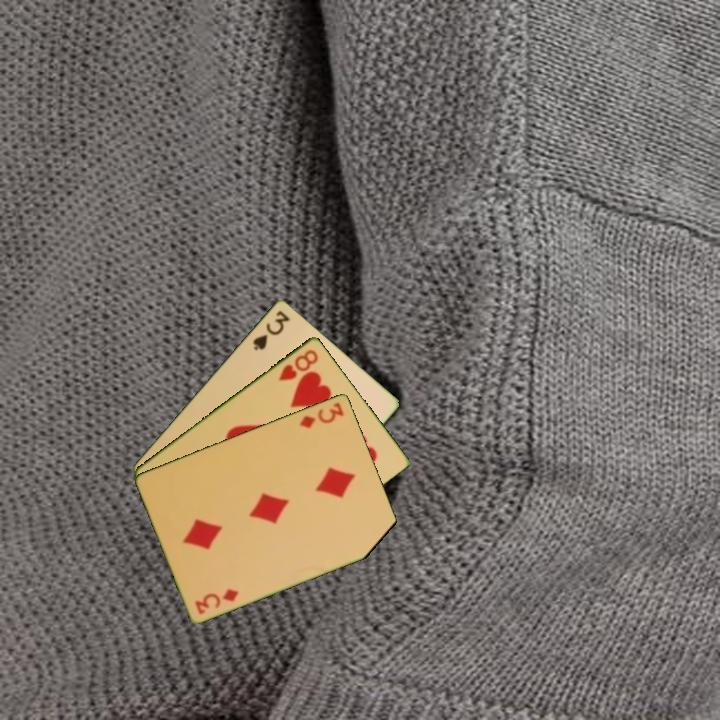3d: (296, 398, 347, 431), (191, 585, 241, 617)
3s: (249, 306, 293, 353)
8h: (275, 345, 321, 383)
